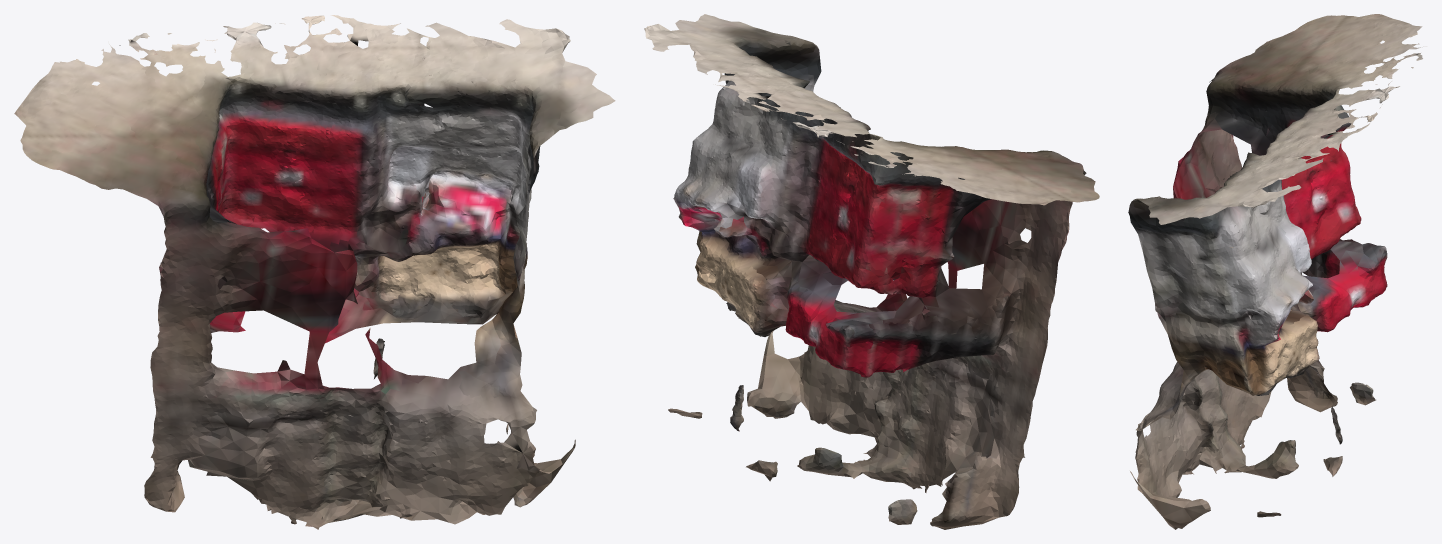
File: texturedMesh.obj
The picture shows the model from 3 angles, left to right: view 1: azimuth 30°, elevation 25°; view 2: azimuth 150°, elevation 25°; view 3: azimuth 270°, elevation 25°; orthographic projection. The views are drawn at different scales.
Parts seen in each view (by area): view 1: TexturedMesh; view 2: TexturedMesh; view 3: TexturedMesh.
Boxes of the visible parts, x1=… form: TexturedMesh: x1=14, y1=15, x2=615, y2=529; TexturedMesh: x1=644, y1=14, x2=1099, y2=529; TexturedMesh: x1=1128, y1=14, x2=1426, y2=529.
Bounding box in the file's own units: 2.85 × 2.36 × 1.69.
Materials: 1 (1 with a texture image).
